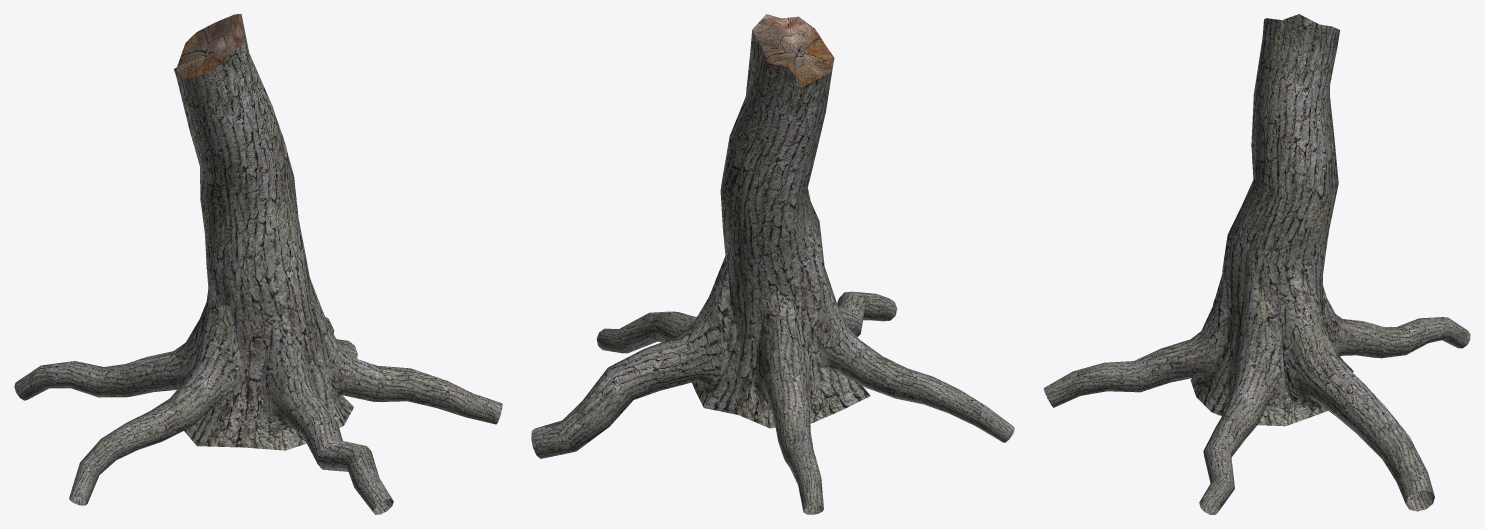
The model's file is Stump Tree-01.fbx.
The picture shows the model from 3 angles, left to right: view 1: azimuth 30°, elevation 25°; view 2: azimuth 150°, elevation 25°; view 3: azimuth 270°, elevation 25°; orthographic projection. The views are drawn at different scales.
Parts seen in each view (by area): view 1: Stump_Tree_01; view 2: Stump_Tree_01; view 3: Stump_Tree_01.
Boxes of the visible parts, box(x1,y1,x2,y2) form: Stump_Tree_01: box(14, 14, 502, 514); Stump_Tree_01: box(531, 14, 1014, 514); Stump_Tree_01: box(1043, 14, 1470, 514).
Size of the model in its own units: 24.95 by 24.8 by 22.77.
Materials: 2 (2 with a texture image).
